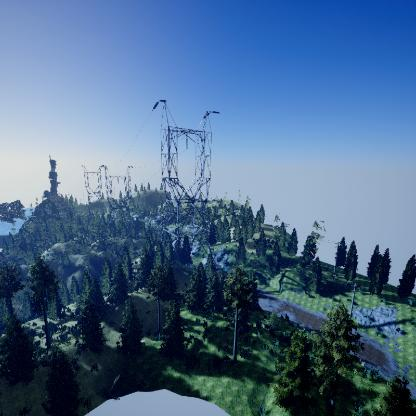tower: (149, 98, 224, 260), (101, 163, 134, 231), (80, 164, 103, 218)
